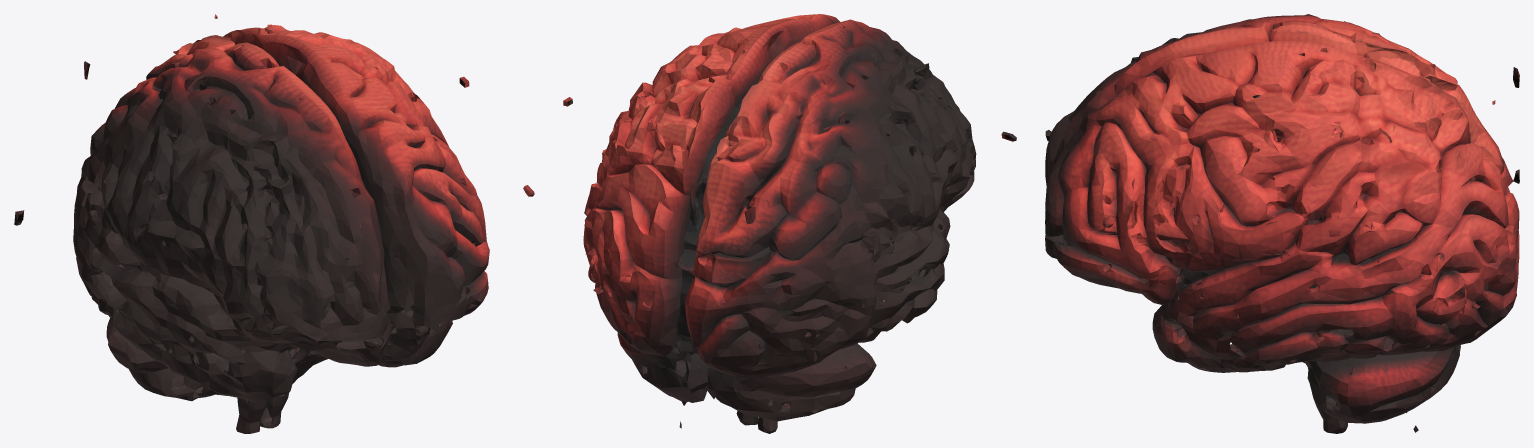
Rendered from brainesse.glb.
3 renders of one model, left to right at view 1: azimuth 30°, elevation 25°; view 2: azimuth 150°, elevation 25°; view 3: azimuth 270°, elevation 25°, orthographic. The views are drawn at different scales.
Visible parts, largest first — view 1: world; view 2: world; view 3: world.
Boxes of the visible parts, x1,y1,x2,y2 form: world: [14, 14, 534, 433]; world: [563, 14, 1016, 433]; world: [1045, 14, 1519, 433].
Size of the model in its own units: 0.9104 by 0.9239 by 0.9996.
1 material, 1 textured.
